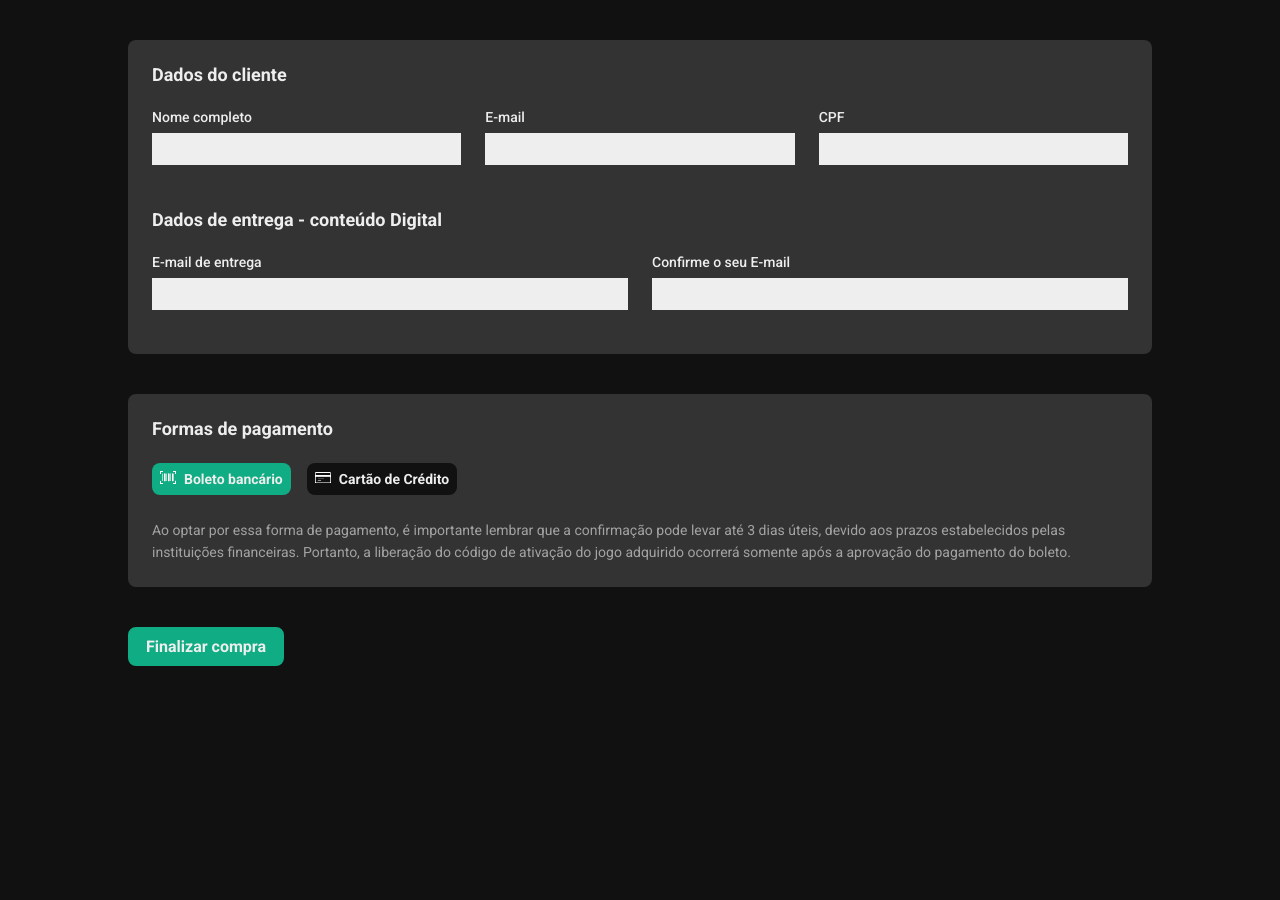
Scenario: Checkout — seleção de método de pagamento › oculta campos de cartão ao voltar para Boleto
Click the button "Cartão de Crédito" at point(382, 479), box [307, 463, 457, 495]
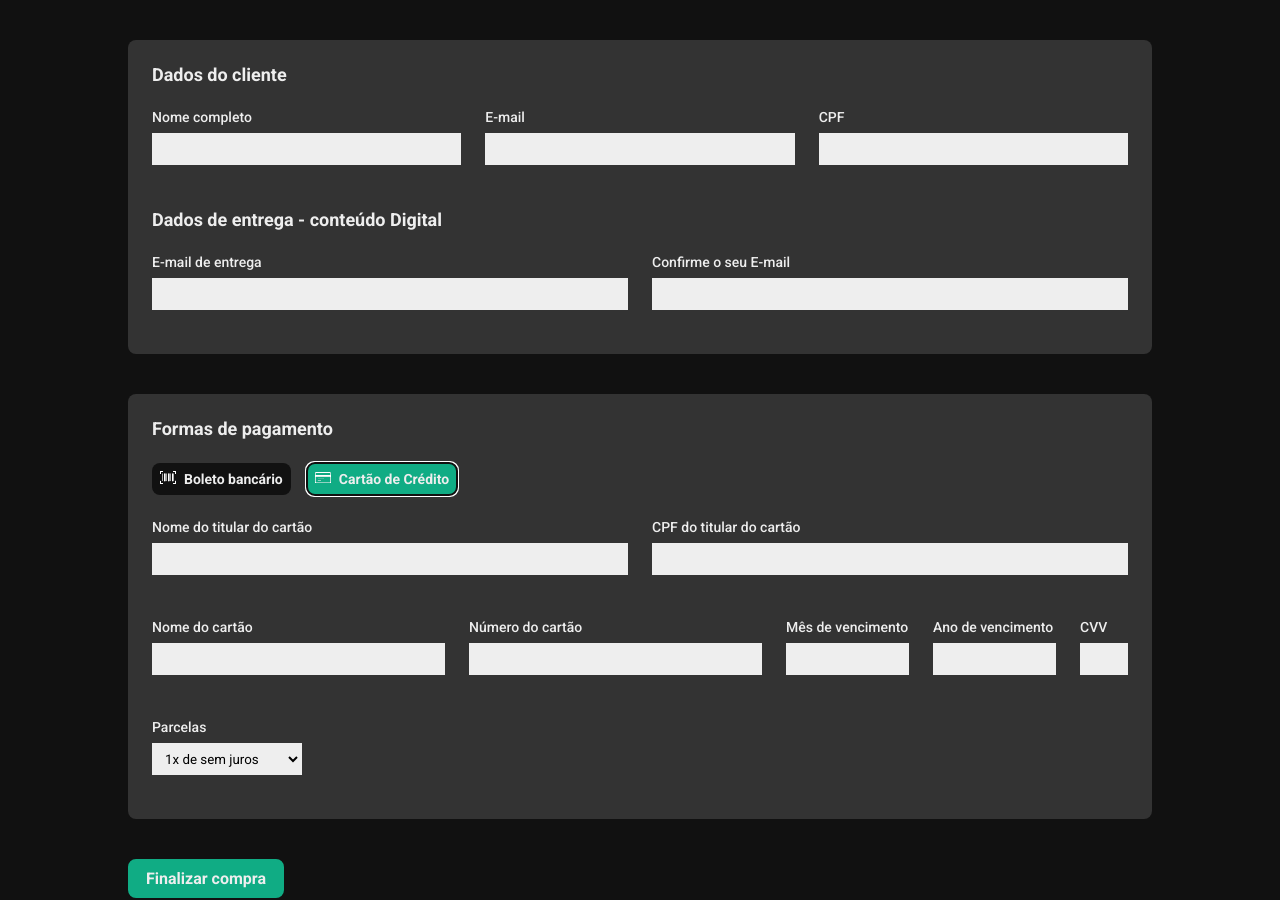
Click the button "Boleto bancário" at point(221, 479), box [152, 463, 291, 495]
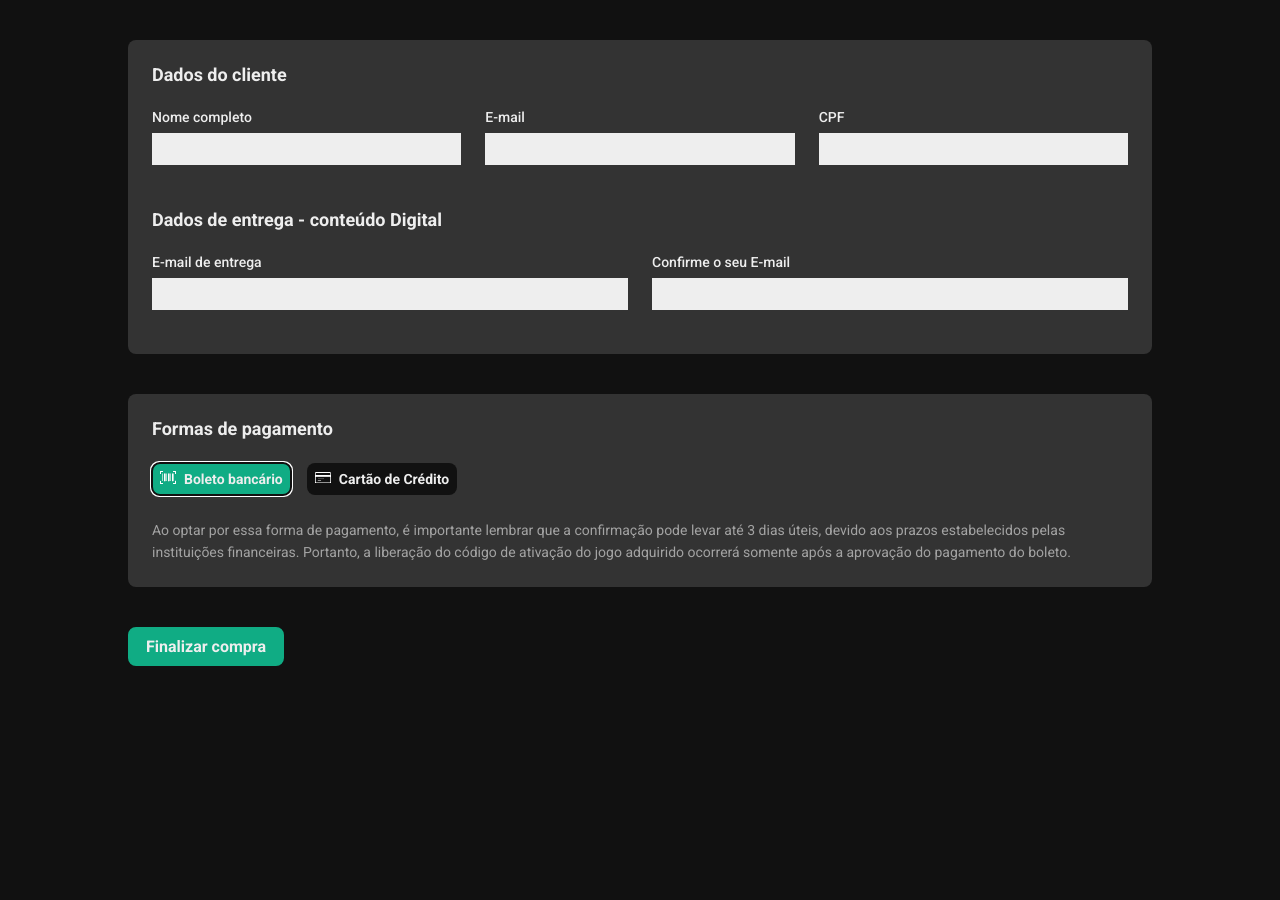
Result: the label labelled "Número do cartão" is gone
Result: the text "confirmação pode levar até 3 dias úteis" is shown at [152, 522, 1071, 560]
